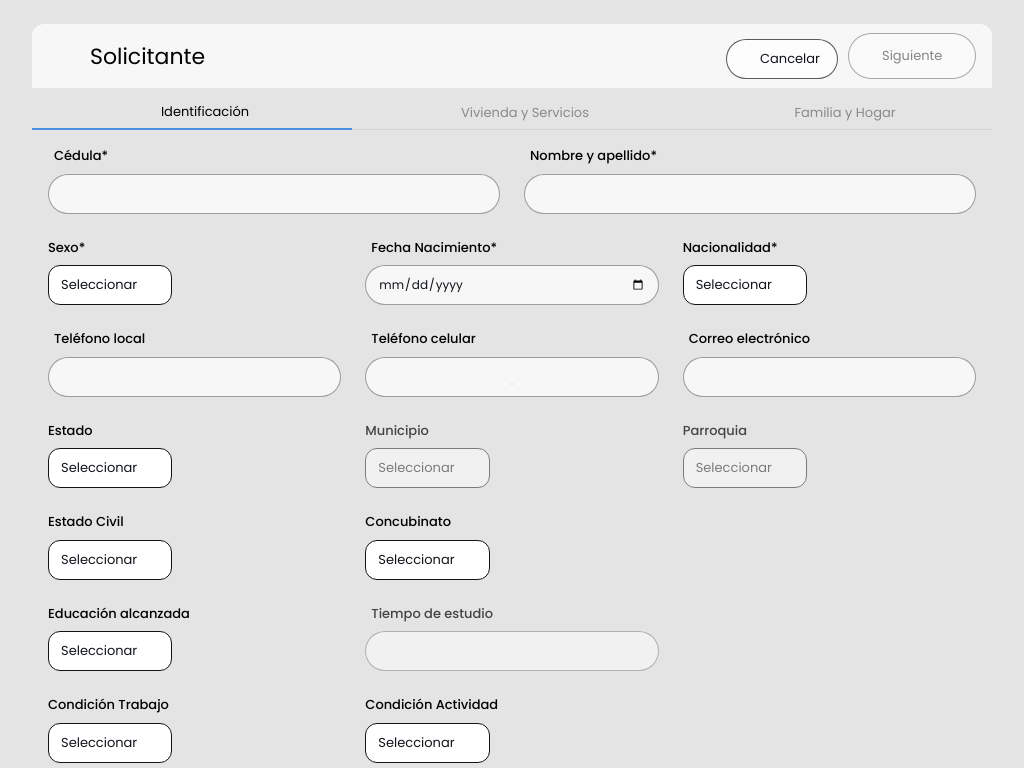
Test: CreateCaseApplicantStep › Habilita el botón con datos válidos (Mayor de edad, con sexo y nacionalidad)
Type "12345678" into the field labelled "Cédula*" at (274, 194), box top-left (48, 174), bottom-right (500, 214)
Wait 1000 ms
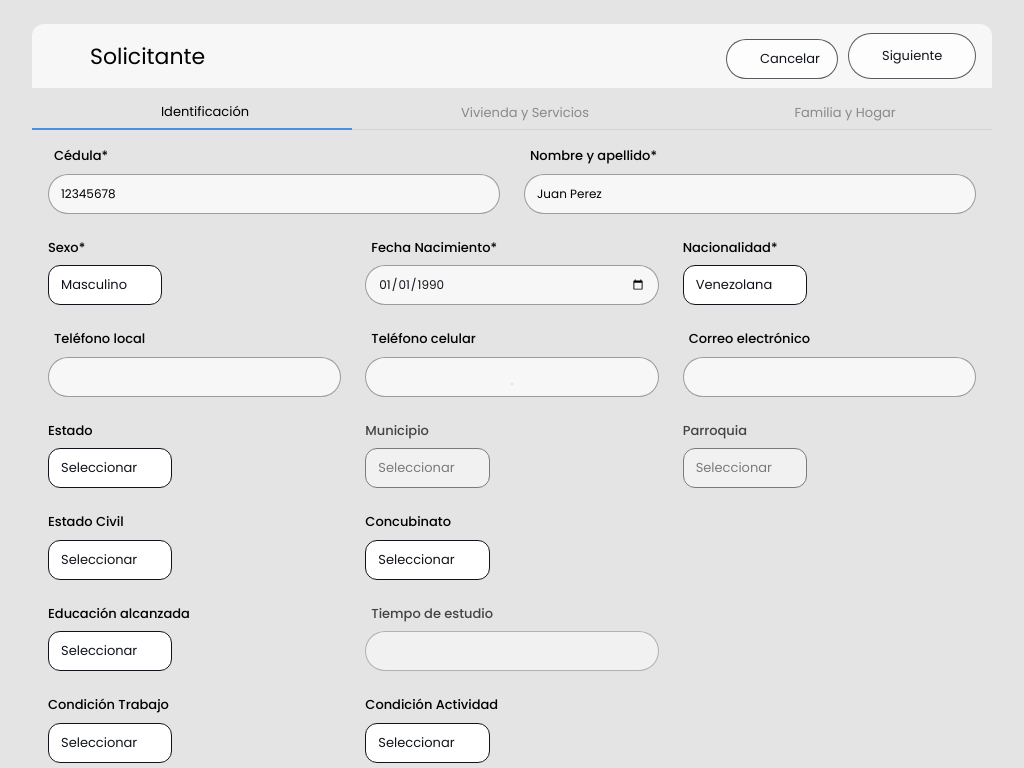
Expected: the button "Siguiente" is enabled, top-left (848, 33), bottom-right (976, 79)
